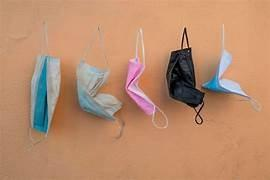Mask: (202, 25, 260, 110), (125, 28, 167, 127), (166, 28, 203, 123), (76, 54, 121, 121), (30, 51, 59, 144)
